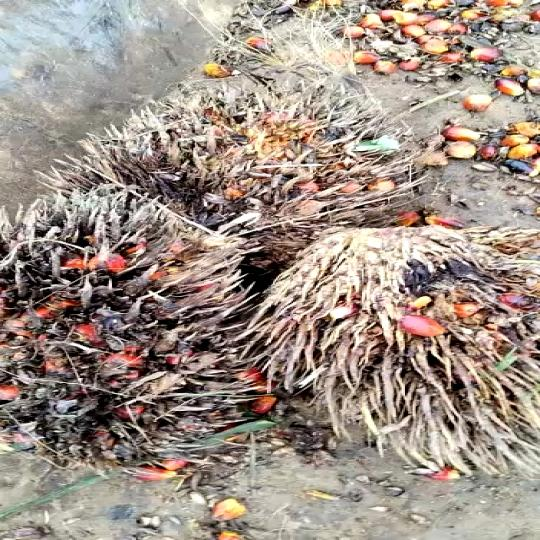terlalu masak: (0, 215, 281, 468), (254, 219, 540, 441), (65, 93, 407, 232)
